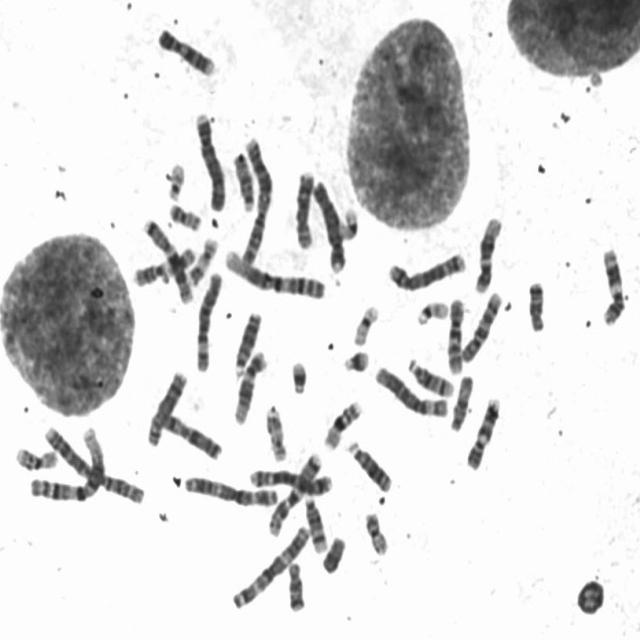A1: (25, 421, 109, 503), (221, 243, 329, 302)
A2: (40, 422, 146, 506), (236, 130, 274, 268)
A3: (229, 519, 313, 610), (181, 469, 281, 509)
B4: (191, 107, 228, 212), (310, 173, 347, 275)
B5: (384, 246, 468, 292), (246, 462, 334, 497)
C10: (458, 286, 504, 365), (443, 292, 466, 376)
C11: (131, 240, 198, 288), (597, 243, 627, 327)
C12: (229, 345, 269, 426), (471, 211, 504, 295)
C6: (372, 360, 451, 420), (191, 265, 225, 373)
C7: (264, 448, 325, 538), (137, 212, 194, 304)
C8: (143, 364, 190, 449), (291, 165, 316, 251)
C9: (153, 22, 218, 78), (463, 391, 503, 472)
D13: (344, 436, 394, 493), (230, 305, 264, 378)
D14: (404, 352, 456, 399), (301, 492, 330, 554)
D15: (446, 369, 475, 433), (230, 148, 257, 212)
E16: (320, 394, 365, 451), (12, 442, 60, 472)
E17: (183, 230, 220, 287), (262, 399, 289, 463)
E18: (524, 275, 548, 334), (284, 556, 307, 613)
F19: (349, 299, 381, 347), (334, 201, 360, 242)
F20: (361, 506, 391, 557), (165, 198, 204, 232)
G21: (339, 344, 372, 374), (288, 354, 310, 396)
G22: (413, 295, 450, 326), (163, 156, 187, 201)
X: (155, 405, 226, 462)
Y: (318, 530, 348, 575)
